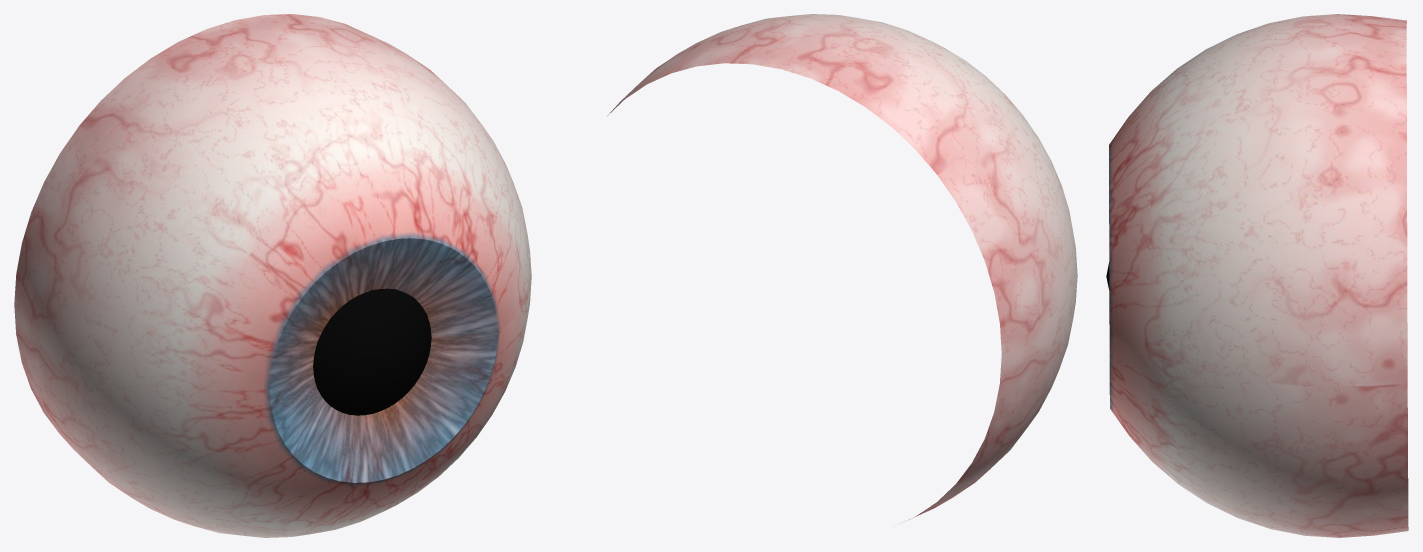
Rendered from eyeScene2.glb.
The picture shows the model from 3 angles, left to right: view 1: azimuth 30°, elevation 25°; view 2: azimuth 150°, elevation 25°; view 3: azimuth 270°, elevation 25°; orthographic projection.
Parts seen in each view (by area): view 1: EYEBALL, Sphere.4; view 2: EYEBALL; view 3: EYEBALL.
Part boxes in pixels (x1=…): EYEBALL: x1=14, y1=14, x2=531, y2=537; Sphere.4: x1=313, y1=288, x2=431, y2=415; EYEBALL: x1=607, y1=14, x2=1077, y2=522; EYEBALL: x1=1109, y1=14, x2=1408, y2=537.
Size of the model in its own units: 23.59 by 23.59 by 13.6.
2 materials, 1 textured.
